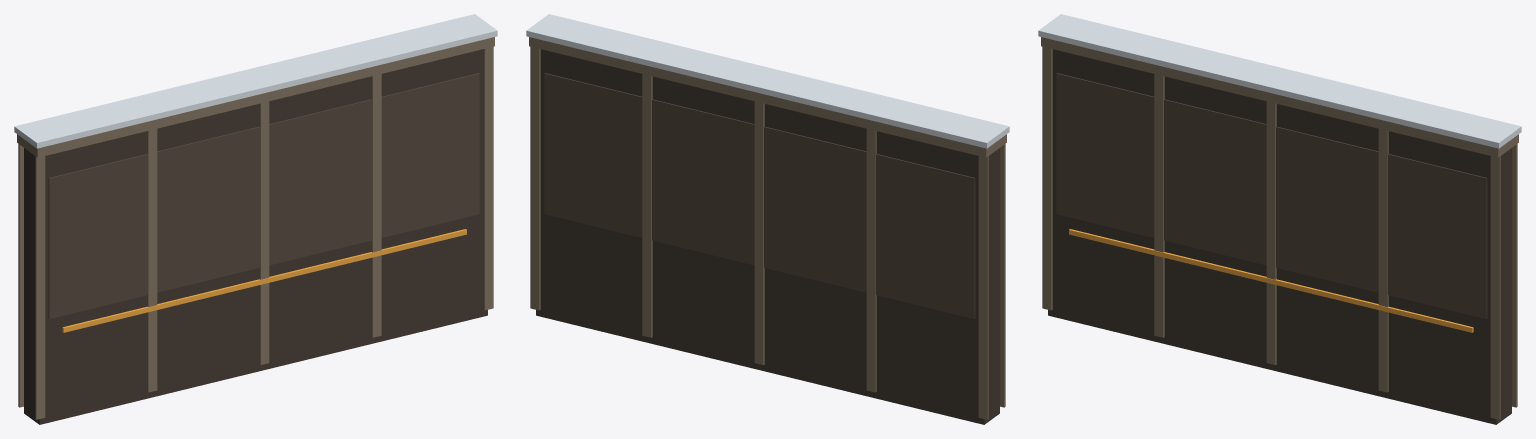
File: cover-hut-cp09b.glb
3 views of the same model, side by side, from view 1: azimuth 30°, elevation 25°; view 2: azimuth 150°, elevation 25°; view 3: azimuth 330°, elevation 25° (orthographic).
Visible parts, largest first — view 1: cover-hut-merged (×4), Body; view 2: cover-hut-merged (×3), Body; view 3: cover-hut-merged (×4), Body.
Boxes of the visible parts, left/top/right/bottom form: cover-hut-merged (×4): left=14, top=14, right=497, bottom=419; Body: left=24, top=49, right=487, bottom=424; cover-hut-merged (×3): left=526, top=14, right=1009, bottom=419; Body: left=536, top=49, right=999, bottom=424; cover-hut-merged (×4): left=1038, top=14, right=1521, bottom=419; Body: left=1048, top=49, right=1511, bottom=424.
Size of the model in its own units: 5.14 by 3.05 by 0.44.
